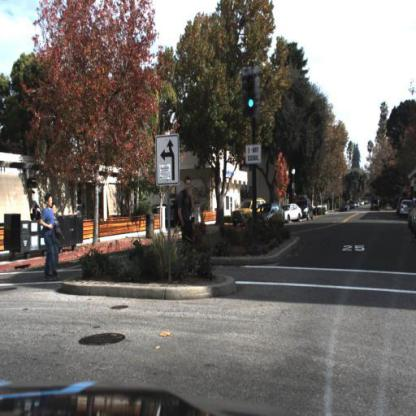car: (229, 194, 269, 223), (250, 202, 288, 229), (163, 194, 188, 230)
pedestrian: (40, 196, 58, 286), (179, 178, 197, 240), (52, 203, 66, 282)
